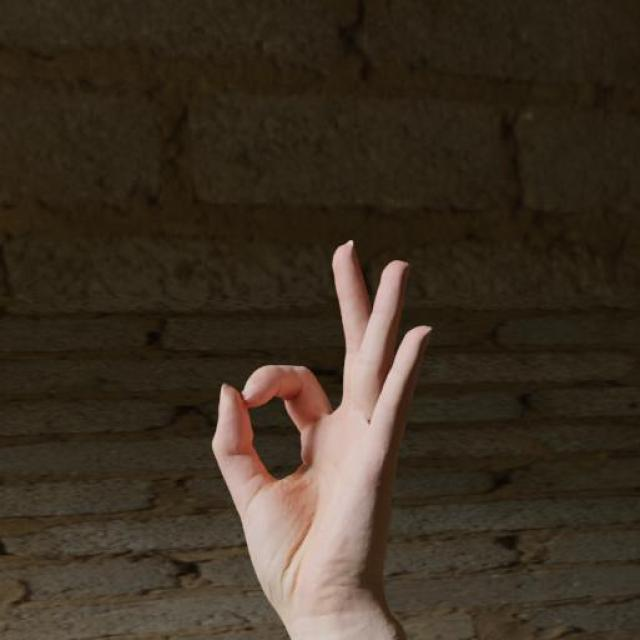F: (210, 235, 436, 623)
